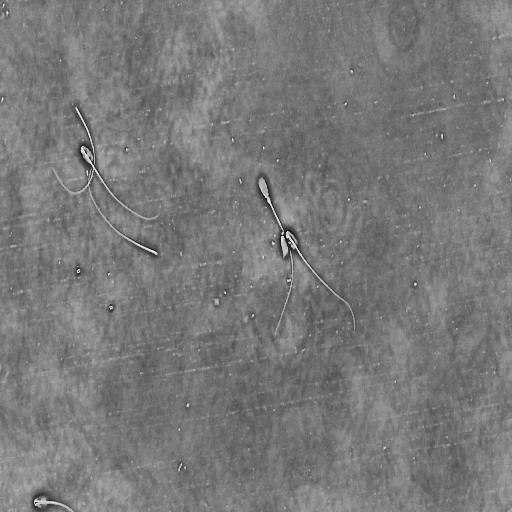folded-tail: (286, 233, 355, 329), (80, 145, 158, 220), (32, 491, 75, 512), (35, 500, 73, 511)
loose-head: (277, 228, 291, 260)
loose-tail: (87, 161, 159, 258), (51, 104, 97, 196)
normal: (285, 227, 357, 333), (78, 142, 163, 224), (256, 173, 294, 337)
proximal-droplet: (267, 196, 271, 203)
